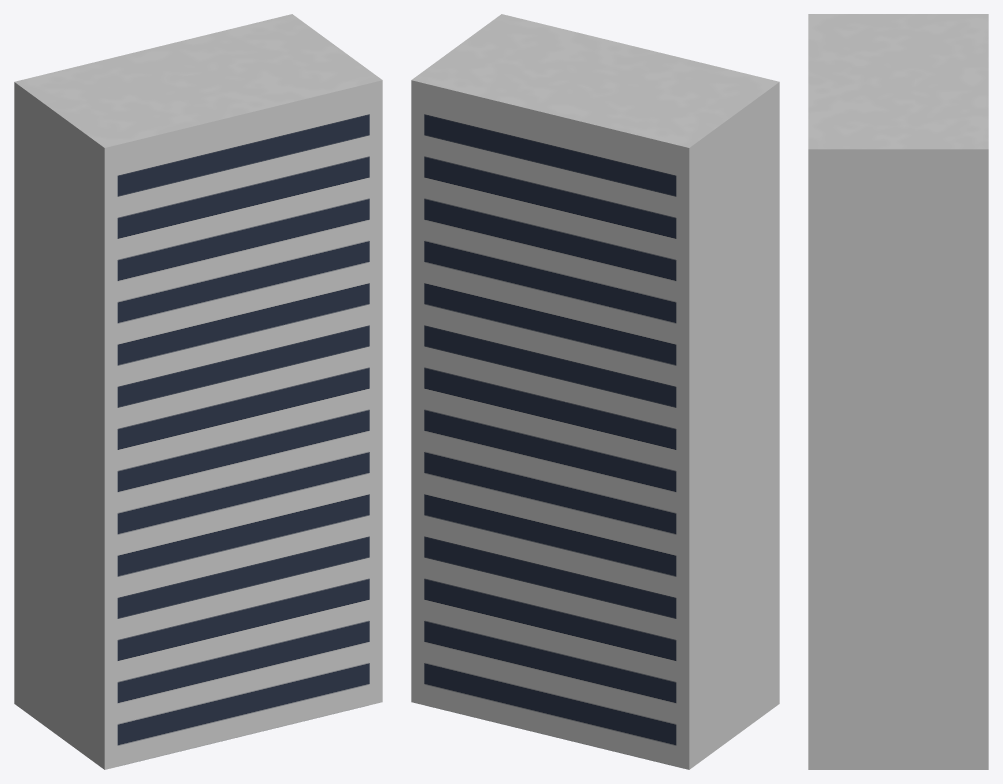
The model's file is Building_S_W2_a_001.fbx.
3 renders of one model, left to right at view 1: azimuth 30°, elevation 25°; view 2: azimuth 150°, elevation 25°; view 3: azimuth 270°, elevation 25°, orthographic.
Visible parts, largest first — view 1: Building_S_W2_a_001; view 2: Building_S_W2_a_001; view 3: Building_S_W2_a_001.
Part boxes in pixels (x1,y1,x2,y2): Building_S_W2_a_001: [14, 14, 382, 769]; Building_S_W2_a_001: [411, 14, 779, 769]; Building_S_W2_a_001: [808, 14, 988, 769].
Size of the model in its own units: 30.38 by 64.92 by 17.11.
